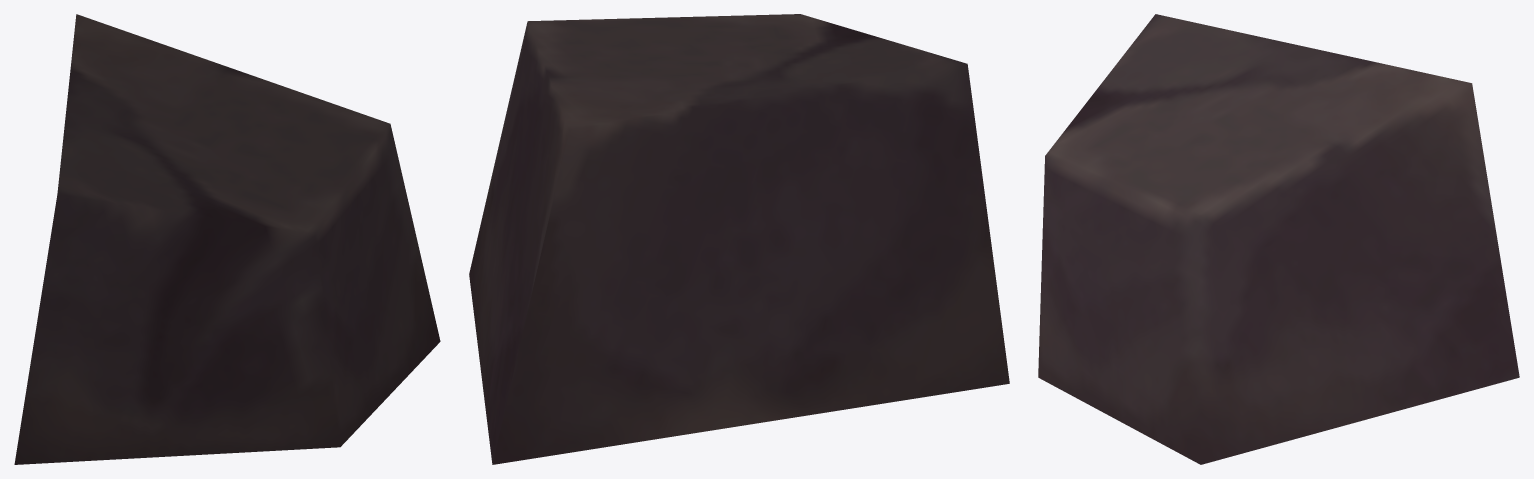
File: jainzhufeiliao_07.FBX
3 views of the same model, side by side, from view 1: azimuth 30°, elevation 25°; view 2: azimuth 150°, elevation 25°; view 3: azimuth 270°, elevation 25° (orthographic). The views are drawn at different scales.
Parts seen in each view (by area): view 1: 对象014; view 2: 对象014; view 3: 对象014.
Part boxes in pixels (bbox=[...]): 对象014: bbox=[14, 14, 440, 464]; 对象014: bbox=[469, 14, 1009, 464]; 对象014: bbox=[1038, 14, 1519, 464].
Bounding box in the file's own units: 126 × 75.78 × 121.
